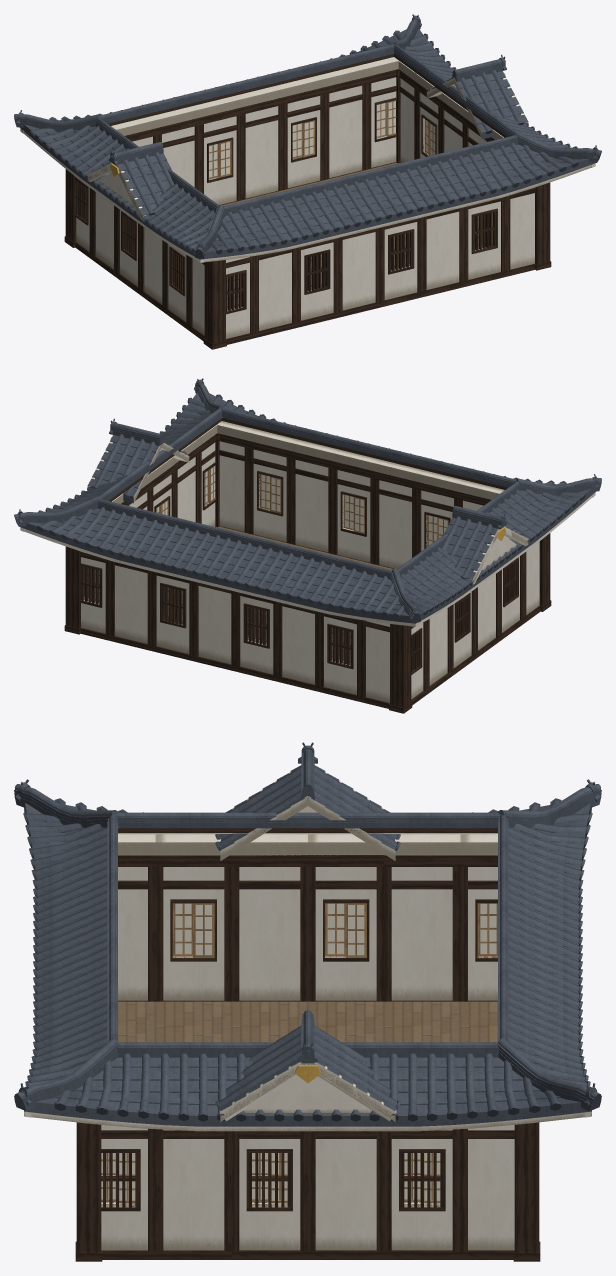
File: HO_Castle_Keep_Tier3.fbx
3 renders of one model, top to bottom at view 1: azimuth 30°, elevation 25°; view 2: azimuth 150°, elevation 25°; view 3: azimuth 270°, elevation 25°, orthographic. The views are drawn at different scales.
Parts seen in each view (by area): view 1: HO_Castle_Keep_Tier3_RoofTiles, HO_Castle_Keep_Tier3_Walls__Plaster_White, HO_Castle_Keep_Tier3_Walls__Timber_Dark, HO_Castle_Keep_Tier3_RoofFrame__Plaster_White, HO_Castle_Keep_Tier3_Gable__RoofTile_Clay, HO_Castle_Keep_Tier3_Walls__Shoji_Paper, HO_Castle_Keep_Tier3_Walls__Timber_Light, HO_Castle_Keep_Tier3_RoofFrame__Timber_Dark, HO_Castle_Keep_Tier3_Gable__Plaster_White; view 2: HO_Castle_Keep_Tier3_RoofTiles, HO_Castle_Keep_Tier3_Walls__Plaster_White, HO_Castle_Keep_Tier3_Walls__Timber_Dark, HO_Castle_Keep_Tier3_RoofFrame__Plaster_White, HO_Castle_Keep_Tier3_Gable__RoofTile_Clay, HO_Castle_Keep_Tier3_Walls__Shoji_Paper, HO_Castle_Keep_Tier3_Walls__Timber_Light, HO_Castle_Keep_Tier3_RoofFrame__Timber_Dark, HO_Castle_Keep_Tier3_Gable__Plaster_White; view 3: HO_Castle_Keep_Tier3_RoofTiles, HO_Castle_Keep_Tier3_Walls__Plaster_White, HO_Castle_Keep_Tier3_Walls__Timber_Dark, HO_Castle_Keep_Tier3_Walls__Wood_Planks, HO_Castle_Keep_Tier3_RoofFrame__Plaster_White, HO_Castle_Keep_Tier3_Gable__RoofTile_Clay, HO_Castle_Keep_Tier3_Gable__Plaster_White, HO_Castle_Keep_Tier3_Walls__Shoji_Paper, HO_Castle_Keep_Tier3_Walls__Timber_Light, HO_Castle_Keep_Tier3_RoofFrame__Timber_Dark.
Part boxes in pixels (<box>): HO_Castle_Keep_Tier3_RoofTiles: <box>14,14,601,259</box>; HO_Castle_Keep_Tier3_Walls__Plaster_White: <box>76,77,534,338</box>; HO_Castle_Keep_Tier3_Walls__Timber_Dark: <box>64,69,551,349</box>; HO_Castle_Keep_Tier3_RoofFrame__Plaster_White: <box>20,57,595,262</box>; HO_Castle_Keep_Tier3_Gable__RoofTile_Clay: <box>92,54,528,221</box>; HO_Castle_Keep_Tier3_Walls__Shoji_Paper: <box>209,101,478,305</box>; HO_Castle_Keep_Tier3_Walls__Timber_Light: <box>209,100,492,307</box>; HO_Castle_Keep_Tier3_RoofFrame__Timber_Dark: <box>108,54,506,137</box>; HO_Castle_Keep_Tier3_Gable__Plaster_White: <box>87,77,528,221</box>; HO_Castle_Keep_Tier3_RoofTiles: <box>14,378,601,623</box>; HO_Castle_Keep_Tier3_Walls__Plaster_White: <box>81,441,539,702</box>; HO_Castle_Keep_Tier3_Walls__Timber_Dark: <box>64,433,551,713</box>; HO_Castle_Keep_Tier3_RoofFrame__Plaster_White: <box>20,421,595,626</box>; HO_Castle_Keep_Tier3_Gable__RoofTile_Clay: <box>87,418,523,585</box>; HO_Castle_Keep_Tier3_Walls__Shoji_Paper: <box>95,466,447,660</box>; HO_Castle_Keep_Tier3_Walls__Timber_Light: <box>84,465,448,662</box>; HO_Castle_Keep_Tier3_RoofFrame__Timber_Dark: <box>109,418,507,501</box>; HO_Castle_Keep_Tier3_Gable__Plaster_White: <box>87,441,528,585</box>; HO_Castle_Keep_Tier3_RoofTiles: <box>14,779,601,1126</box>; HO_Castle_Keep_Tier3_Walls__Plaster_White: <box>101,867,514,1250</box>; HO_Castle_Keep_Tier3_Walls__Timber_Dark: <box>75,855,540,1261</box>; HO_Castle_Keep_Tier3_Walls__Wood_Planks: <box>118,1001,497,1042</box>; HO_Castle_Keep_Tier3_RoofFrame__Plaster_White: <box>24,808,591,1131</box>; HO_Castle_Keep_Tier3_Gable__RoofTile_Clay: <box>215,742,400,1111</box>; HO_Castle_Keep_Tier3_Gable__Plaster_White: <box>219,772,396,1121</box>; HO_Castle_Keep_Tier3_Walls__Shoji_Paper: <box>101,903,496,1200</box>; HO_Castle_Keep_Tier3_Walls__Timber_Light: <box>101,903,497,1203</box>; HO_Castle_Keep_Tier3_RoofFrame__Timber_Dark: <box>118,828,497,832</box>.
Bounding box in the file's own units: 38.86 × 13.8 × 30.86.
